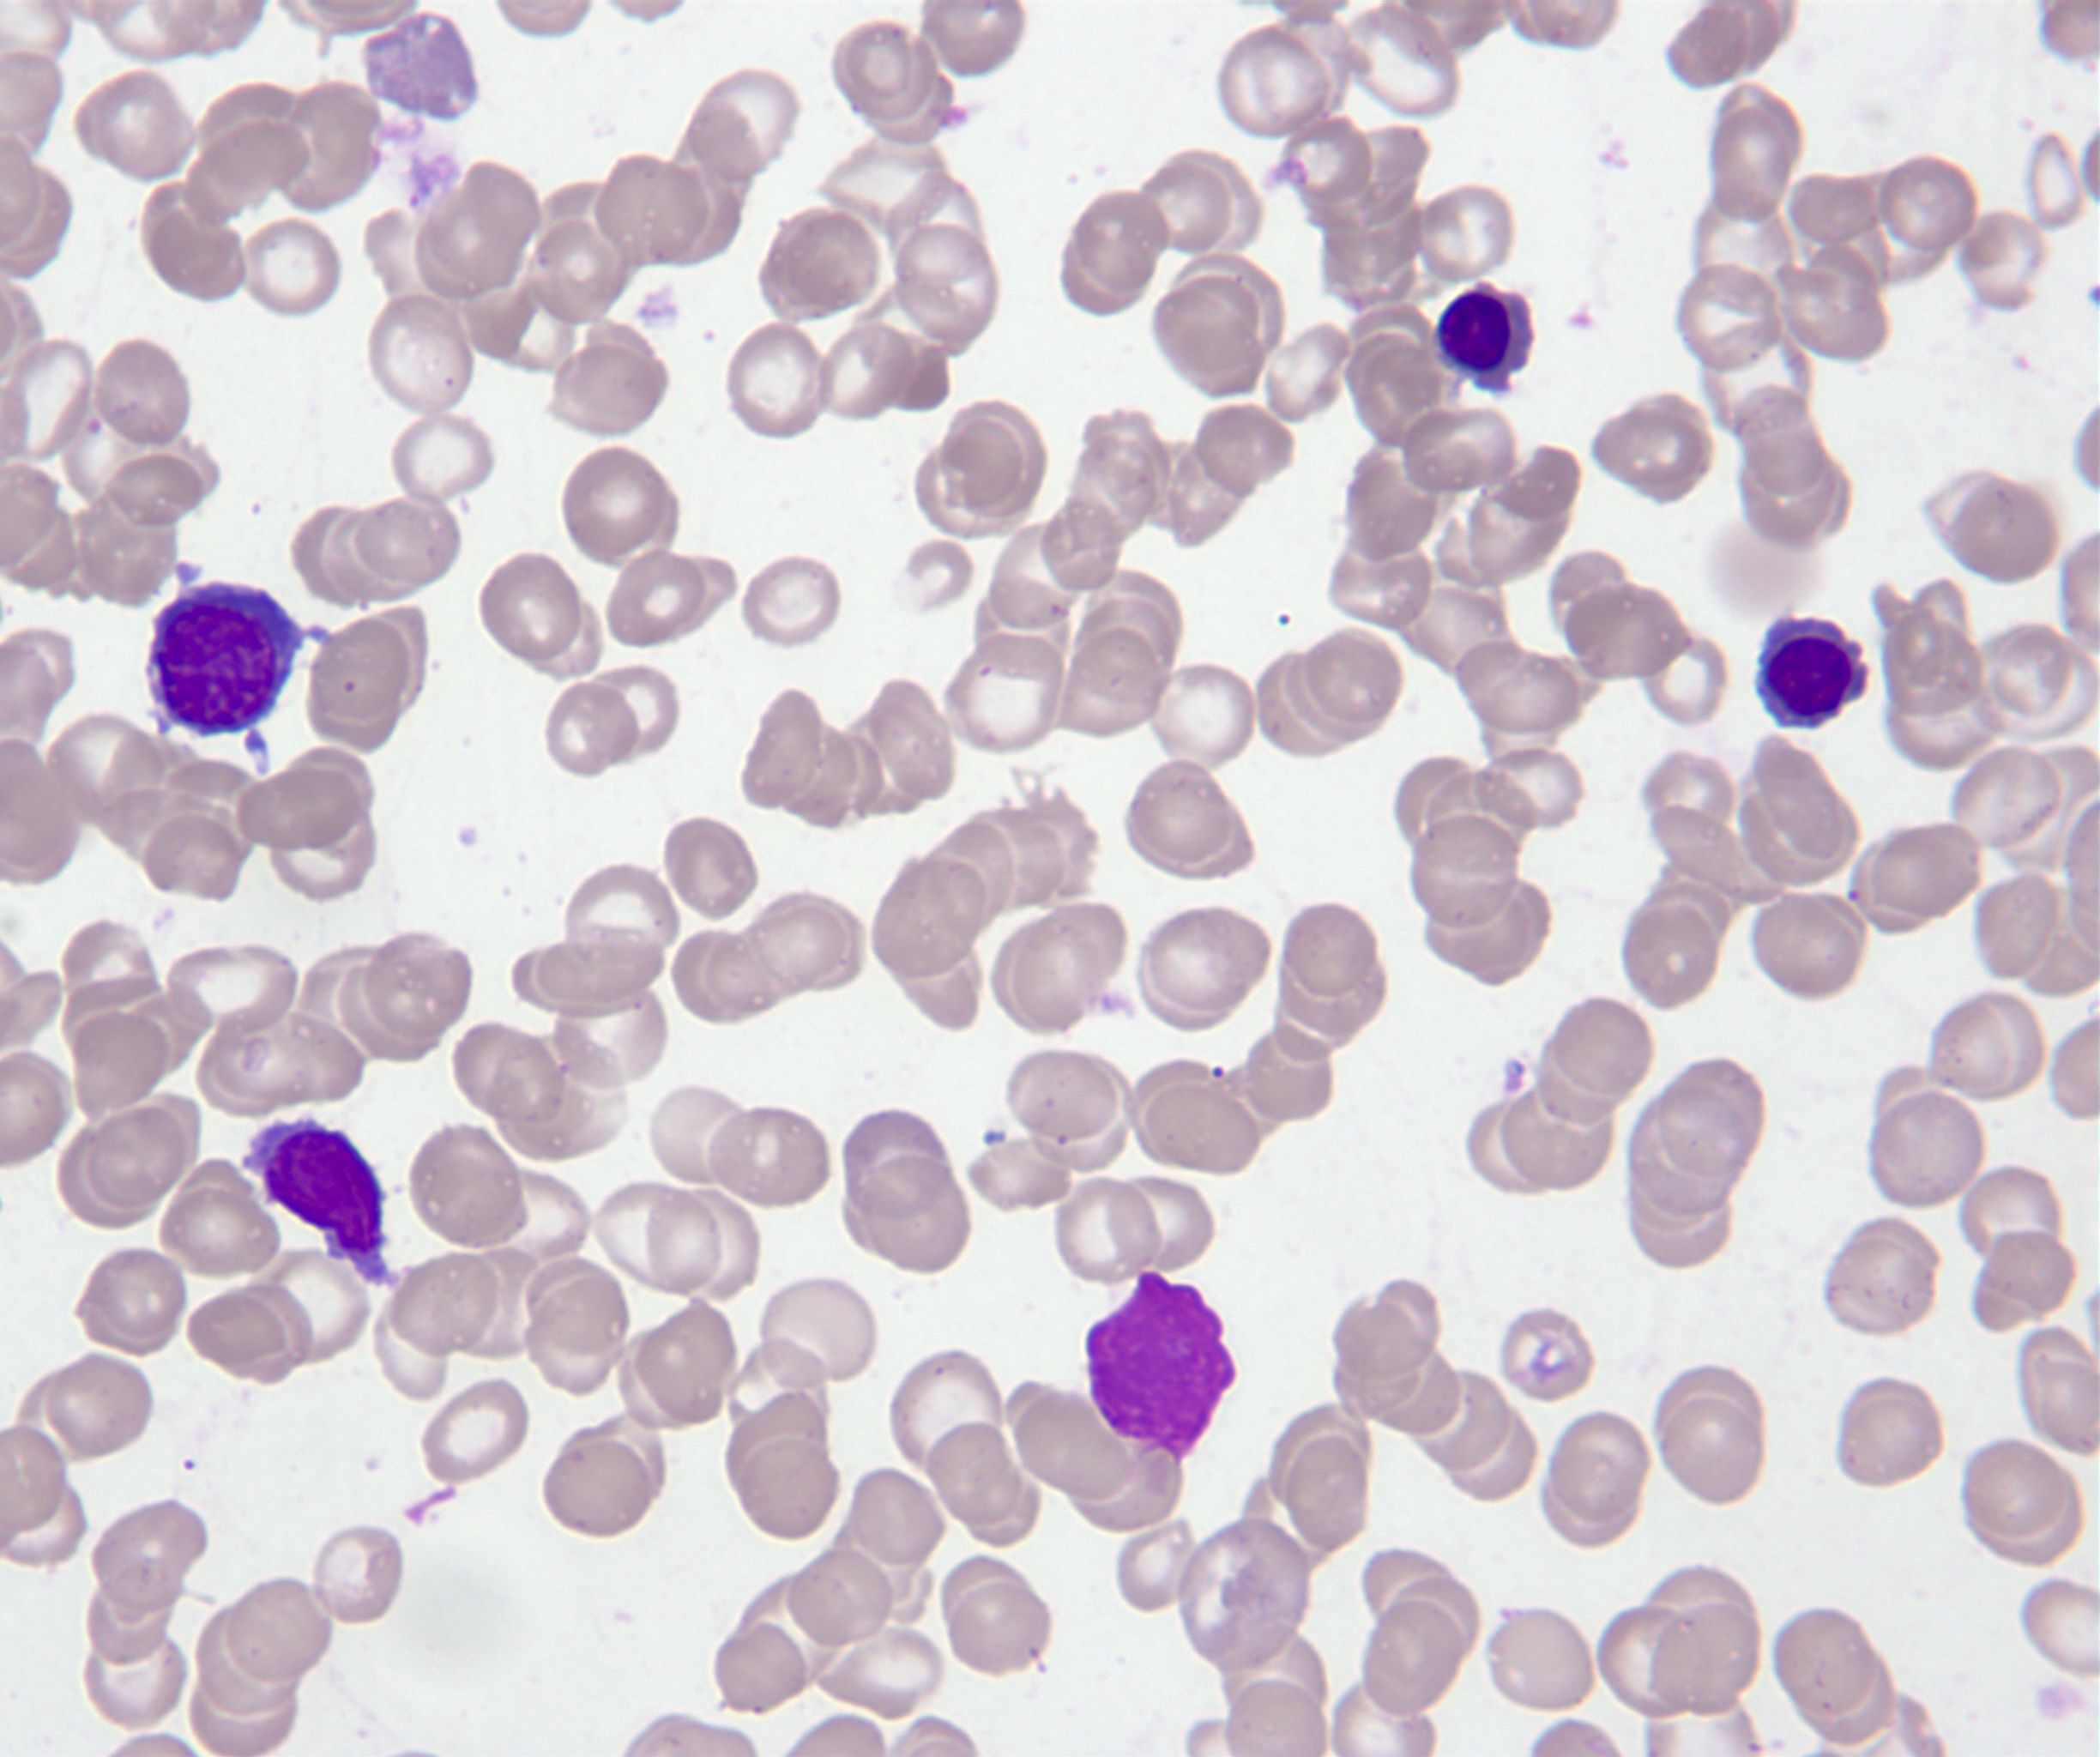23: (148, 562, 330, 738)
24: (1756, 607, 1868, 733), (1435, 281, 1535, 394)
32: (242, 1117, 391, 1288)
x: (1087, 1272, 1238, 1462)
